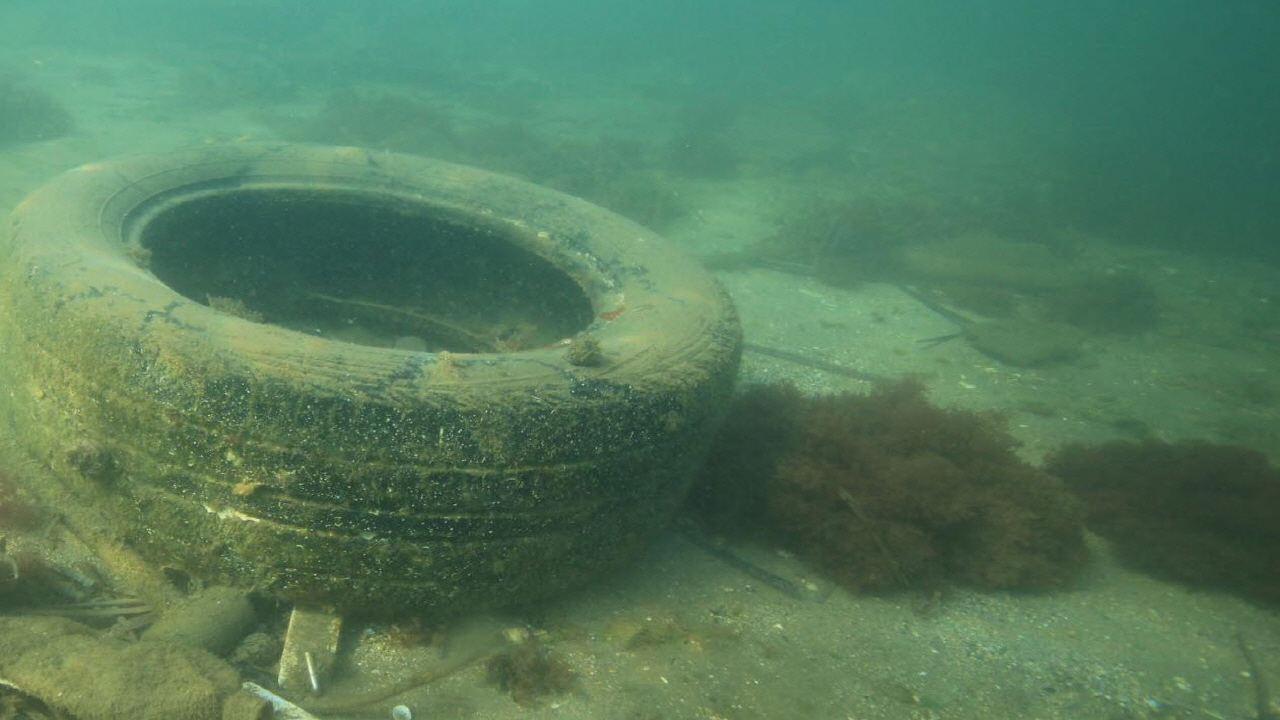tire: (0, 139, 746, 616)
